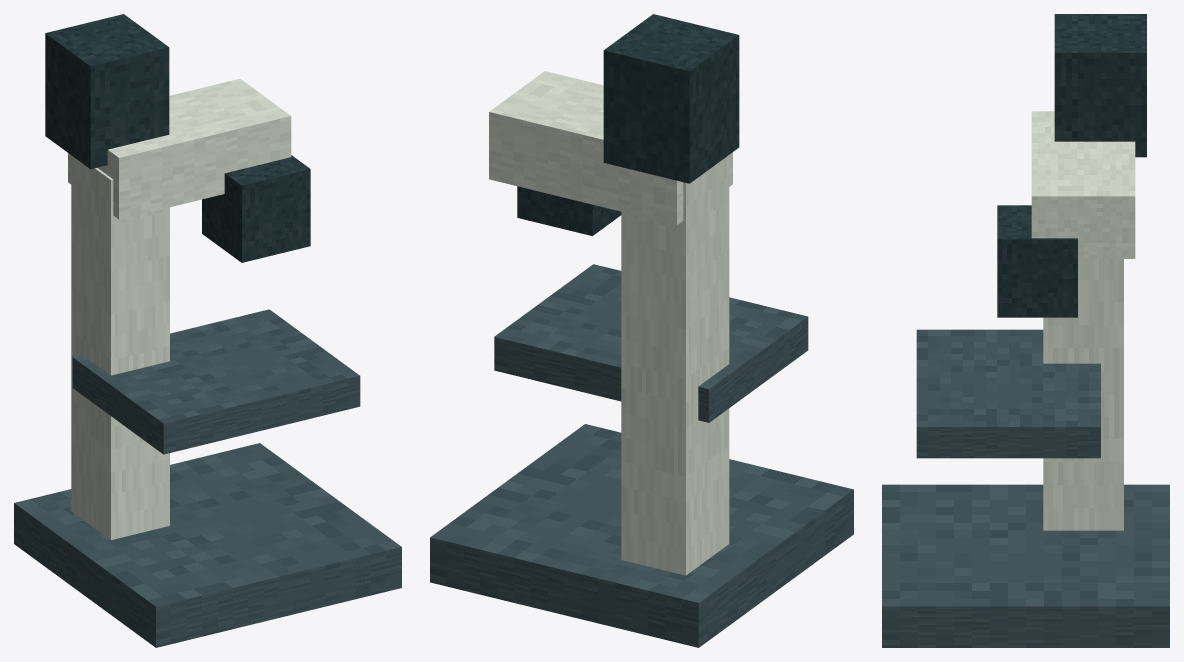
File: microscope.glb
3 views of the same model, side by side, from view 1: azimuth 30°, elevation 25°; view 2: azimuth 150°, elevation 25°; view 3: azimuth 270°, elevation 25° (orthographic). The views are drawn at different scales.
Visible parts, largest first — view 1: block-0, block-1, block-4, block-2, block-5, block-3; view 2: block-0, block-1, block-5, block-4, block-2, block-3; view 3: block-0, block-4, block-1, block-2, block-5, block-3.
Boxes of the visible parts, <box> form: block-0: <box>14,443,401,647</box>; block-1: <box>71,155,169,539</box>; block-4: <box>72,309,360,454</box>; block-2: <box>68,78,291,219</box>; block-5: <box>45,14,169,169</box>; block-3: <box>202,155,310,262</box>; block-0: <box>430,424,853,647</box>; block-1: <box>621,155,729,575</box>; block-5: <box>603,14,739,183</box>; block-4: <box>494,264,808,422</box>; block-2: <box>489,71,732,224</box>; block-3: <box>517,186,621,235</box>; block-0: <box>882,484,1169,647</box>; block-4: <box>916,329,1100,458</box>; block-1: <box>1043,259,1123,530</box>; block-2: <box>1031,111,1135,258</box>; block-5: <box>1054,14,1146,157</box>; block-3: <box>997,205,1077,317</box>.
Bounding box in the file's own units: 0.5 × 1 × 0.5.
Materials: 3 (3 with a texture image).
